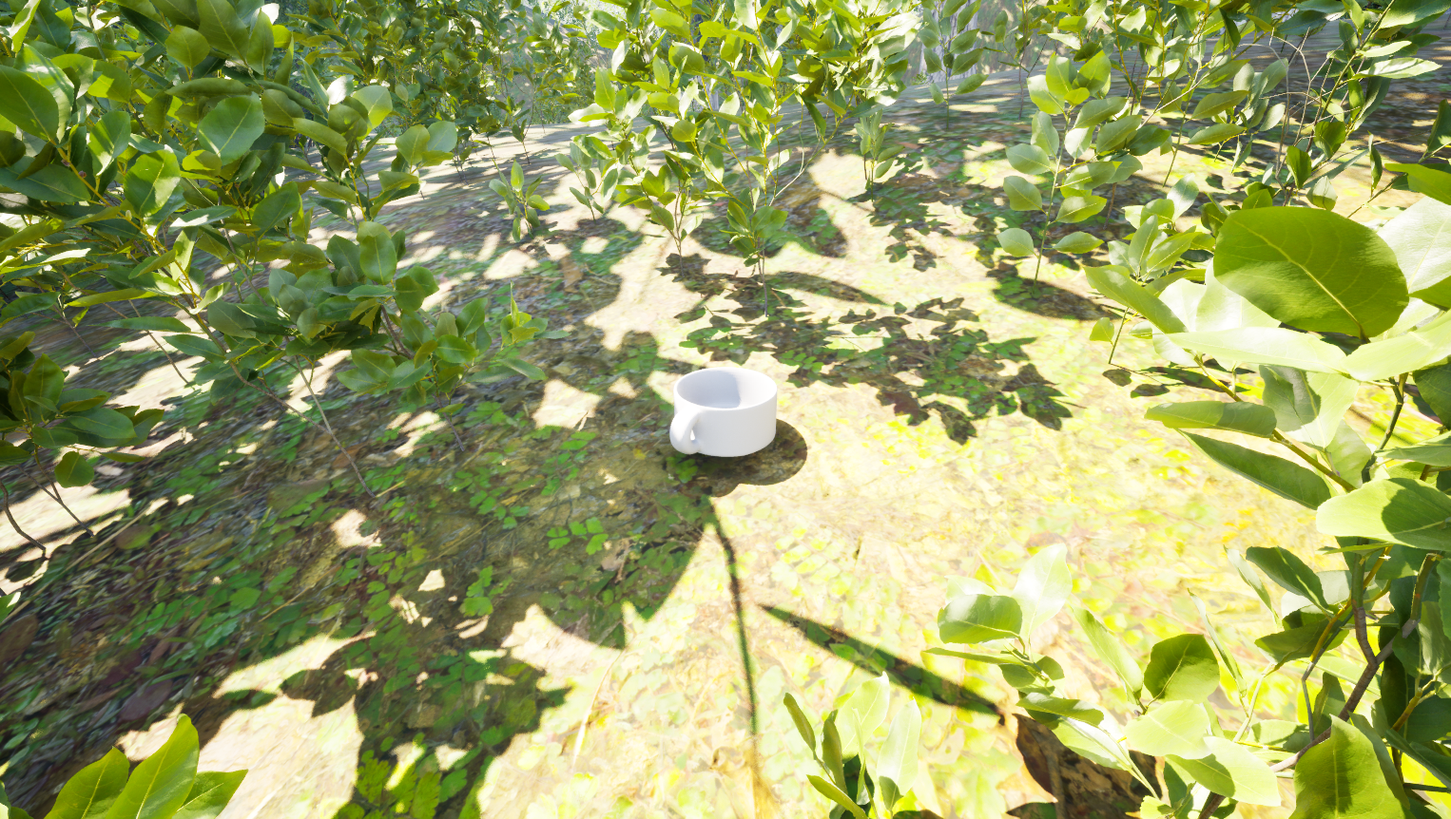Teacup: (647, 362, 795, 469)
